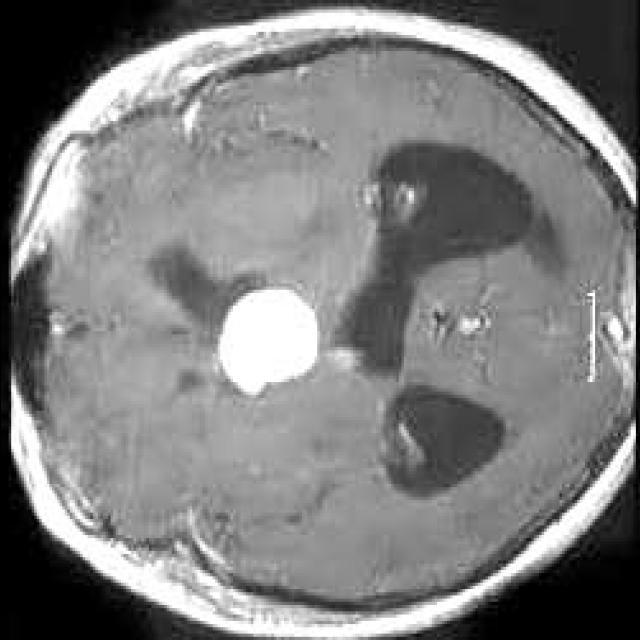tumor: (214, 287, 319, 398)
